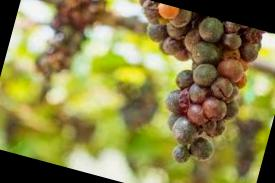Grape Rotten: (99, 0, 266, 176)
